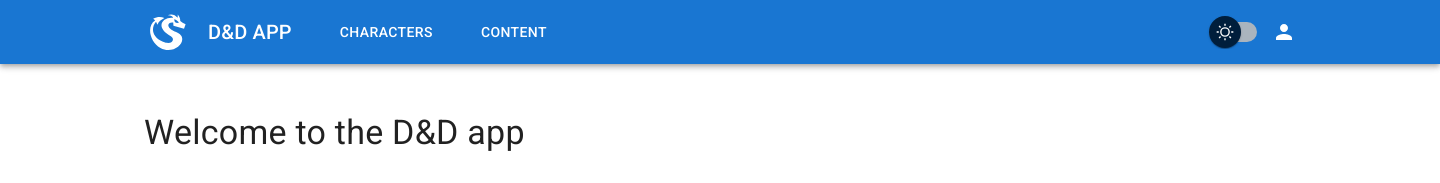
Automation TC01 check home page after loading an app › check navbar is correct
Expected: the button with test id "characters" reads "characters", [332, 14, 441, 51]
Expected: the button with test id "content" reads "content", [473, 14, 555, 51]
Hover over the button with test id "user-icon".
mouse_move(1284, 32)  # box [1272, 20, 1296, 44]
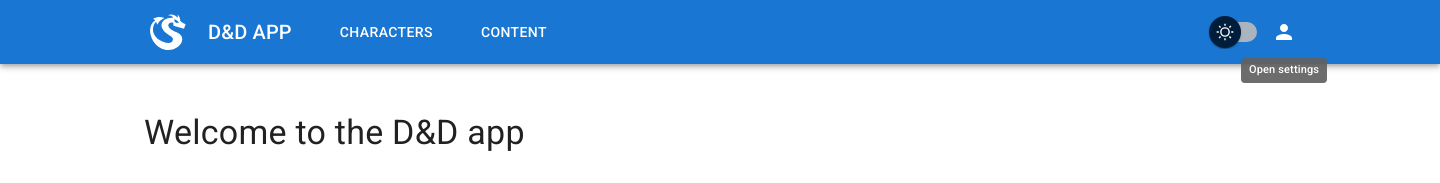
Result: the tooltip with id "user-tooltip" reads "Open settings" at [1239, 44, 1329, 85]
Click the button with test id "user-icon".
click(1284, 32)  # box [1272, 20, 1296, 44]
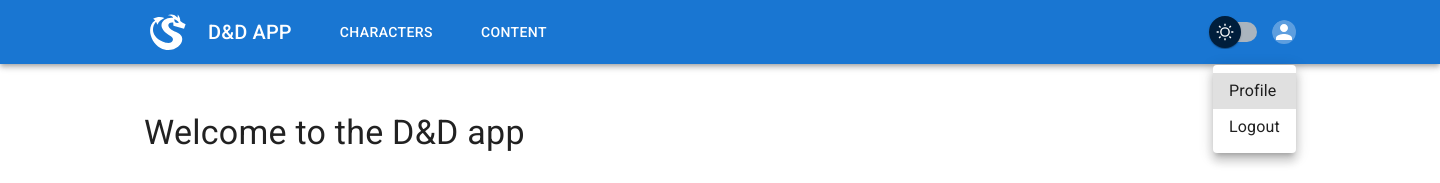
Result: the text with test id "profile" reads "Profile" at [1229, 79, 1276, 103]
Result: the text with test id "logout" reads "Logout" at [1229, 115, 1280, 139]
